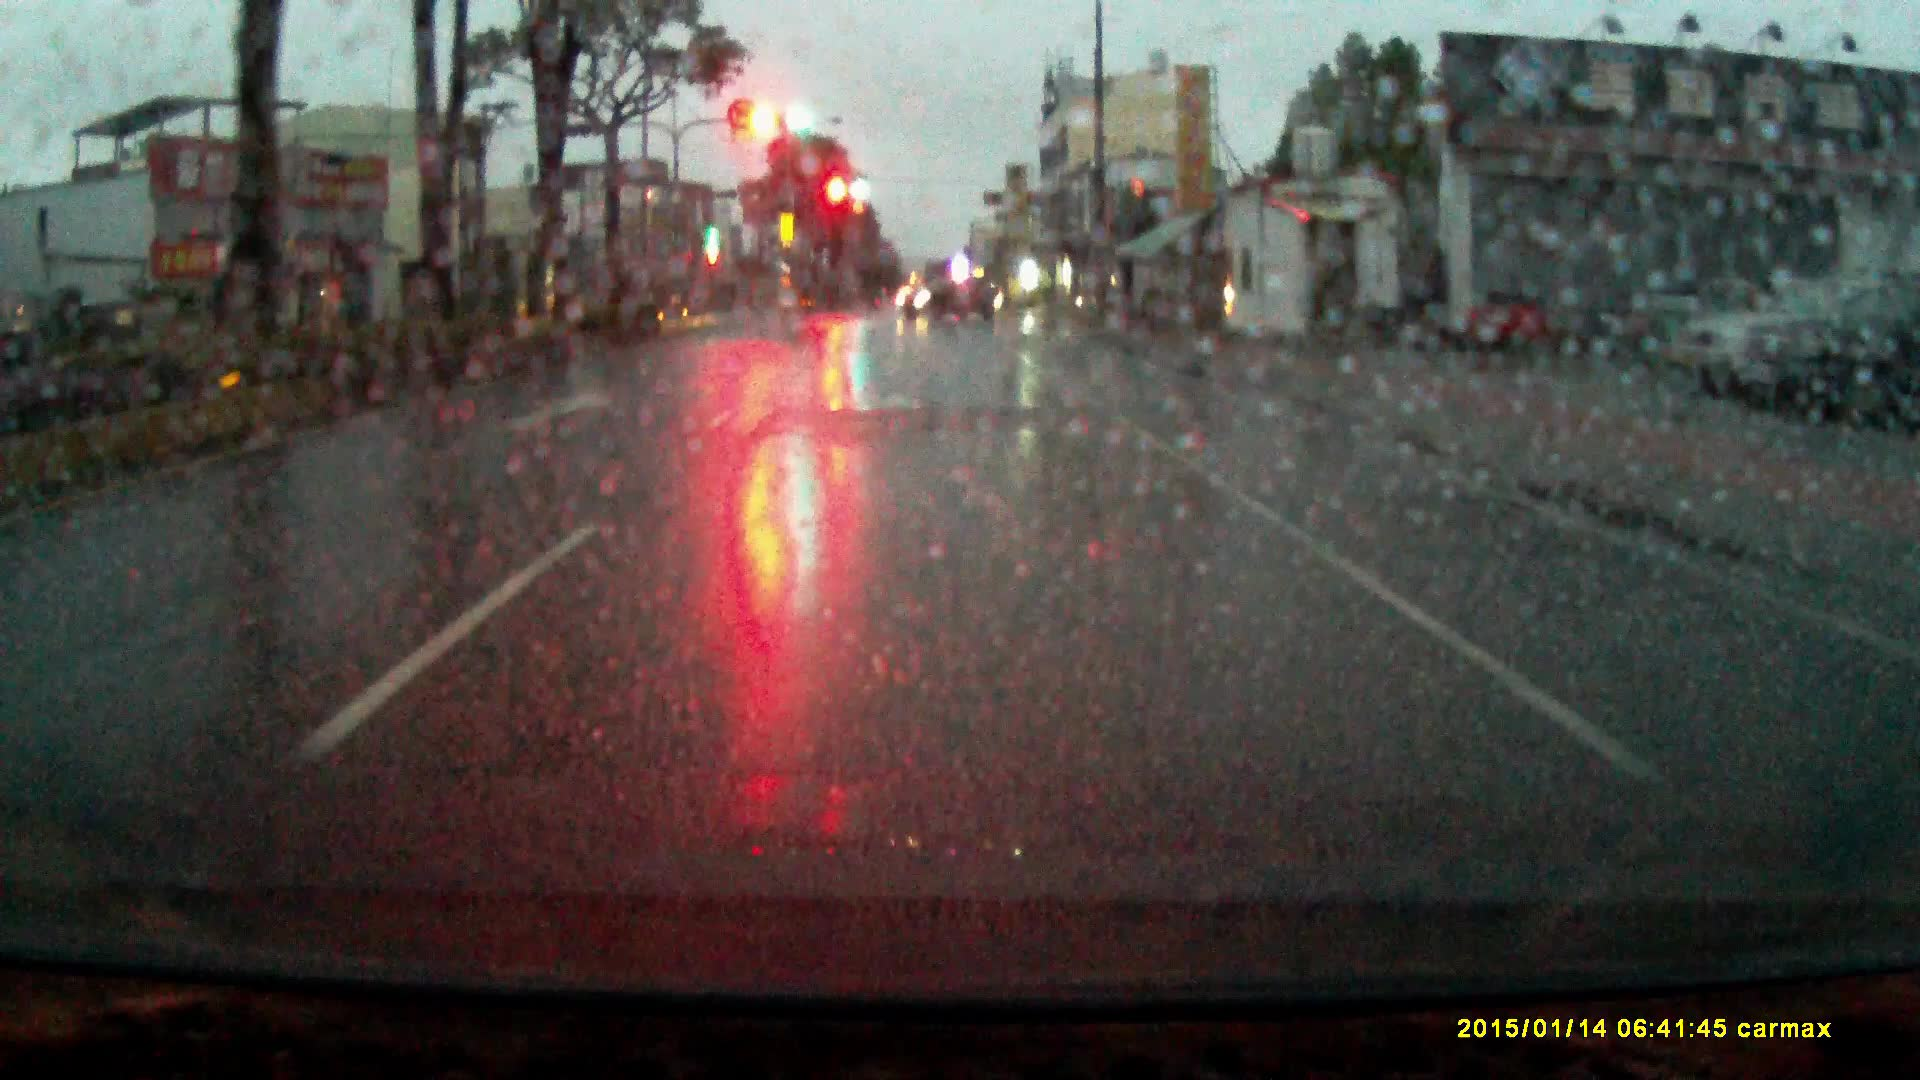vehicle: (1664, 277, 1920, 406), (1775, 293, 1920, 422), (895, 276, 994, 328)
